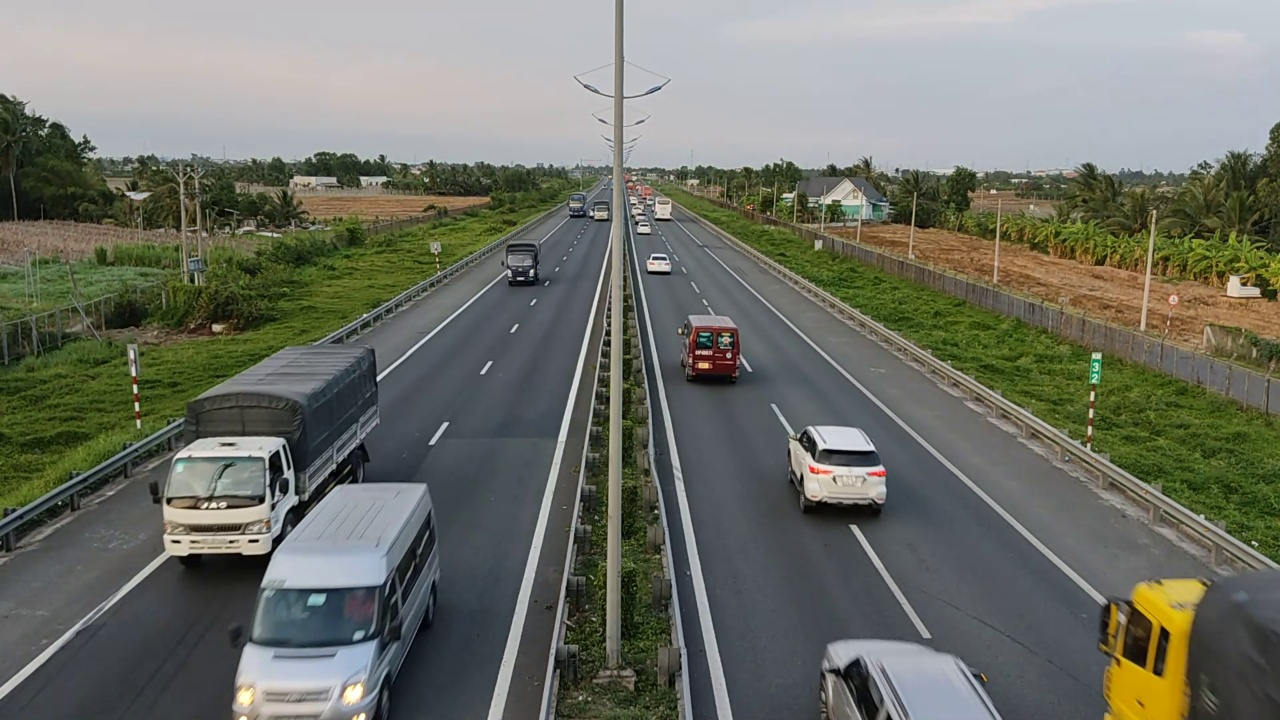car: (227, 477, 443, 719), (817, 637, 1003, 719), (786, 424, 887, 513), (678, 310, 743, 390), (646, 253, 672, 275)
truck: (151, 343, 380, 563)
